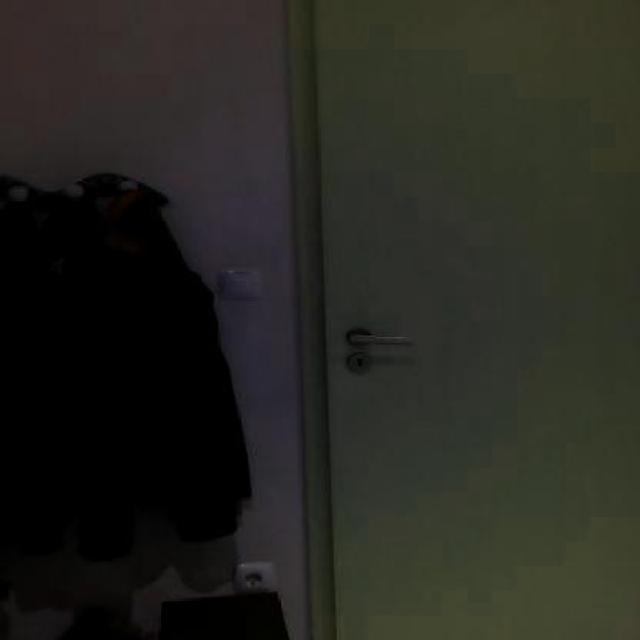door: (309, 0, 638, 638)
